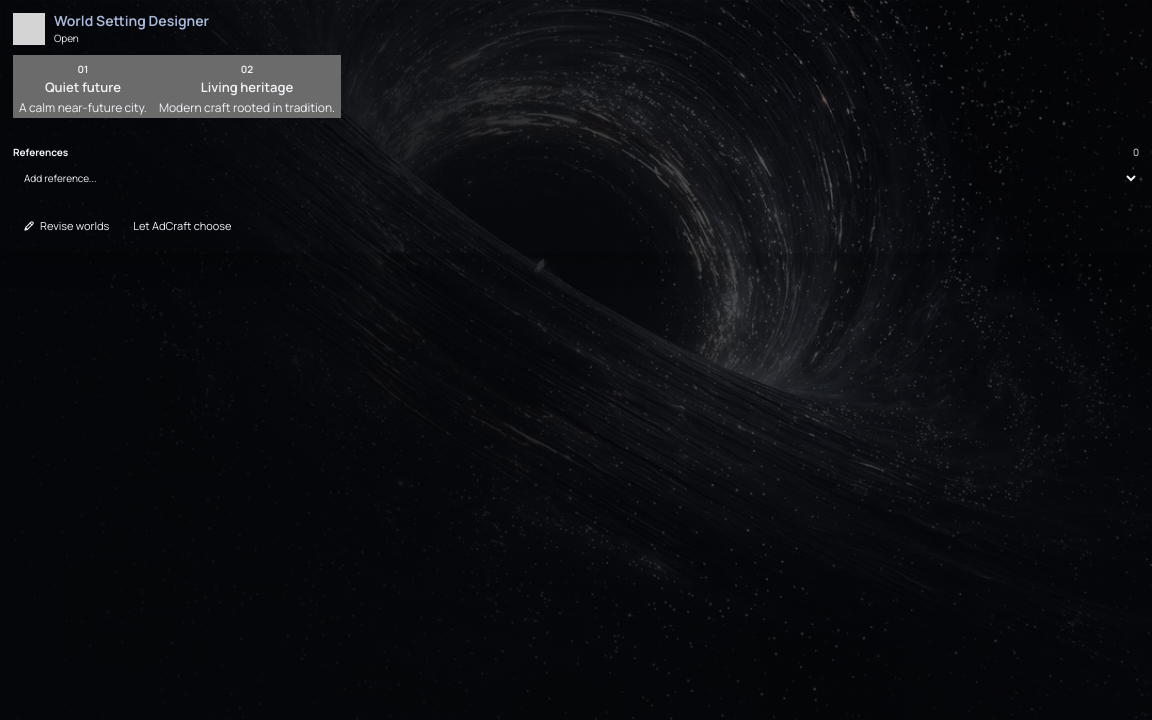
Test case: ProposalCard › renders only the World Setting actions returned by the backend
The width and height of the screenshot is (1152, 720).
Click the button "01 Quiet future A calm near-future city.": (83, 86) [13,55,153,118]
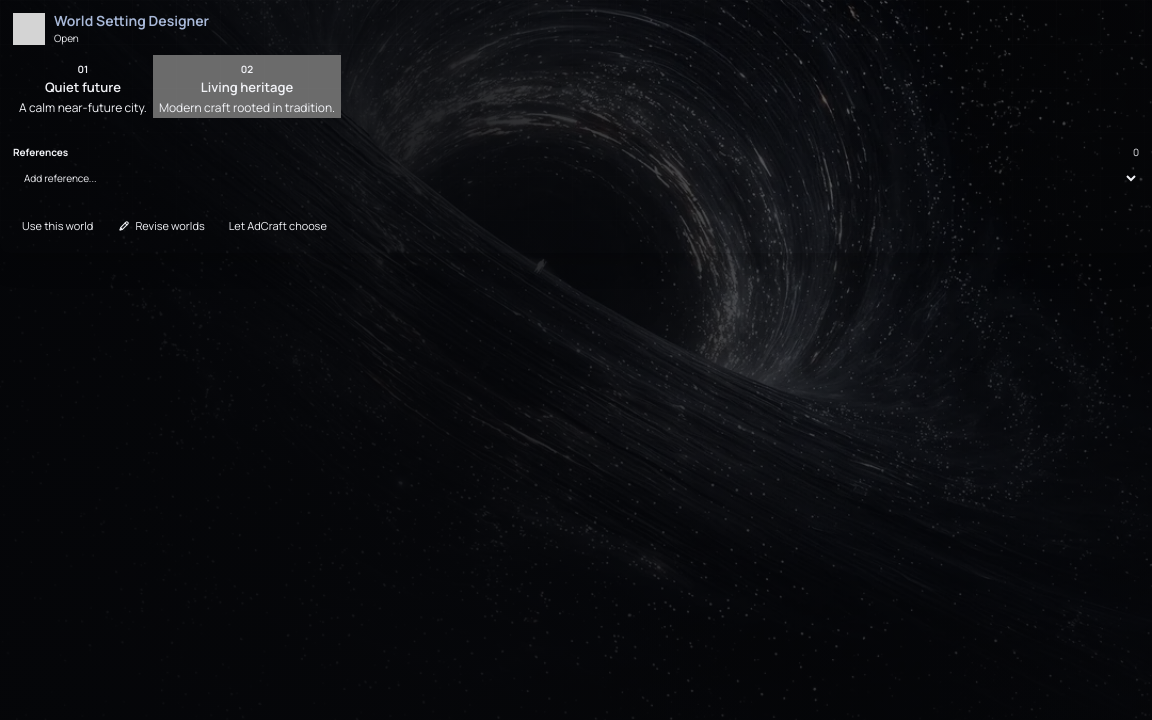
Expected: the button "Revise worlds" is shown, [108,212,214,240]
Expected: the button "Use this world" is shown, [13,212,102,240]
